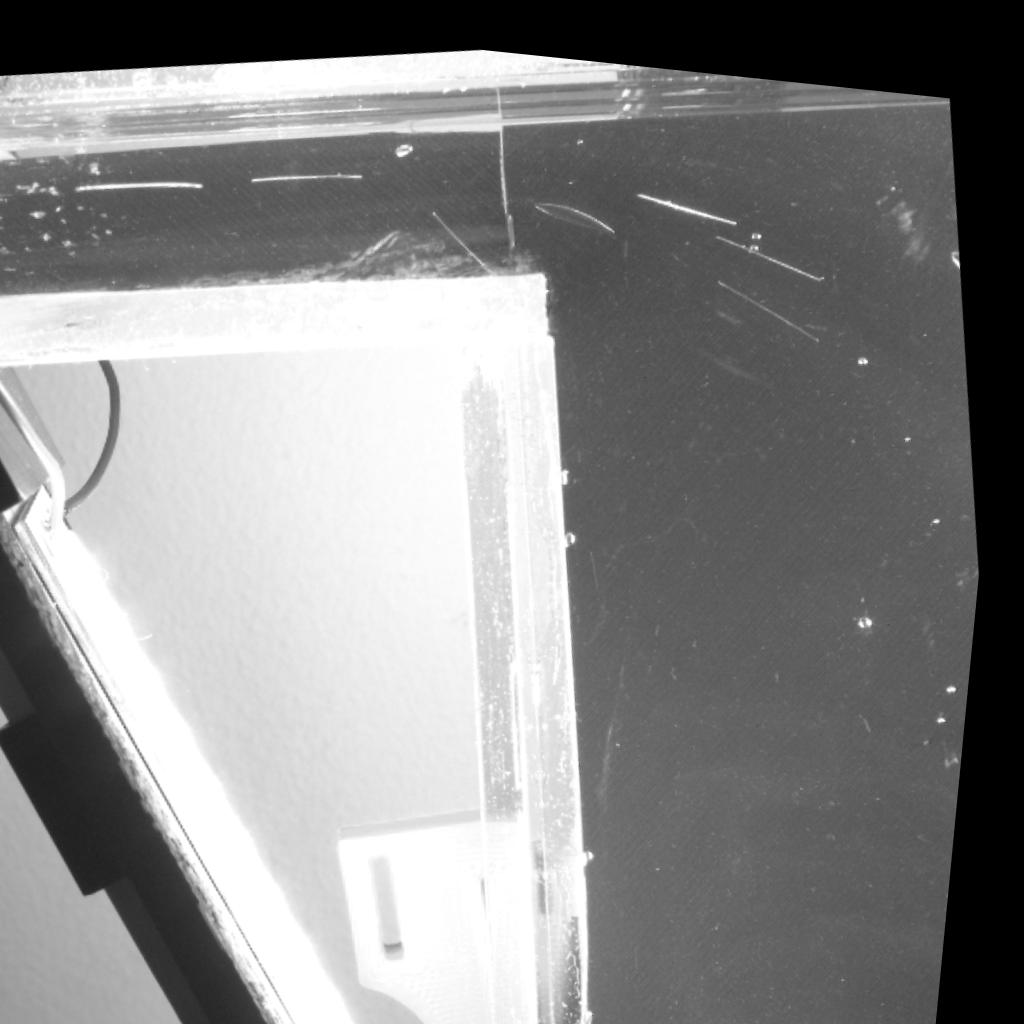Fiber: (716, 260, 827, 327), (714, 217, 824, 266), (430, 196, 502, 266), (636, 175, 741, 214), (77, 172, 204, 193), (249, 159, 368, 175)
